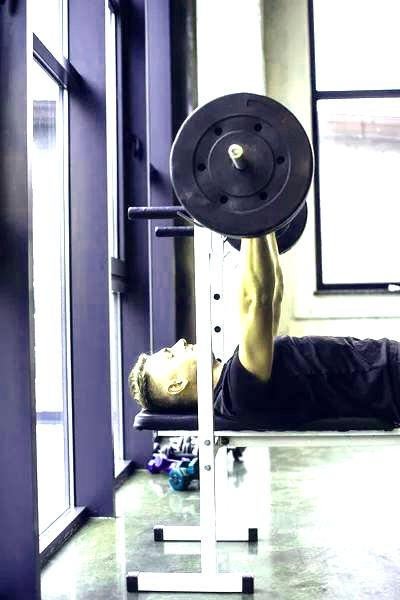Barbell: (220, 132, 246, 165)
